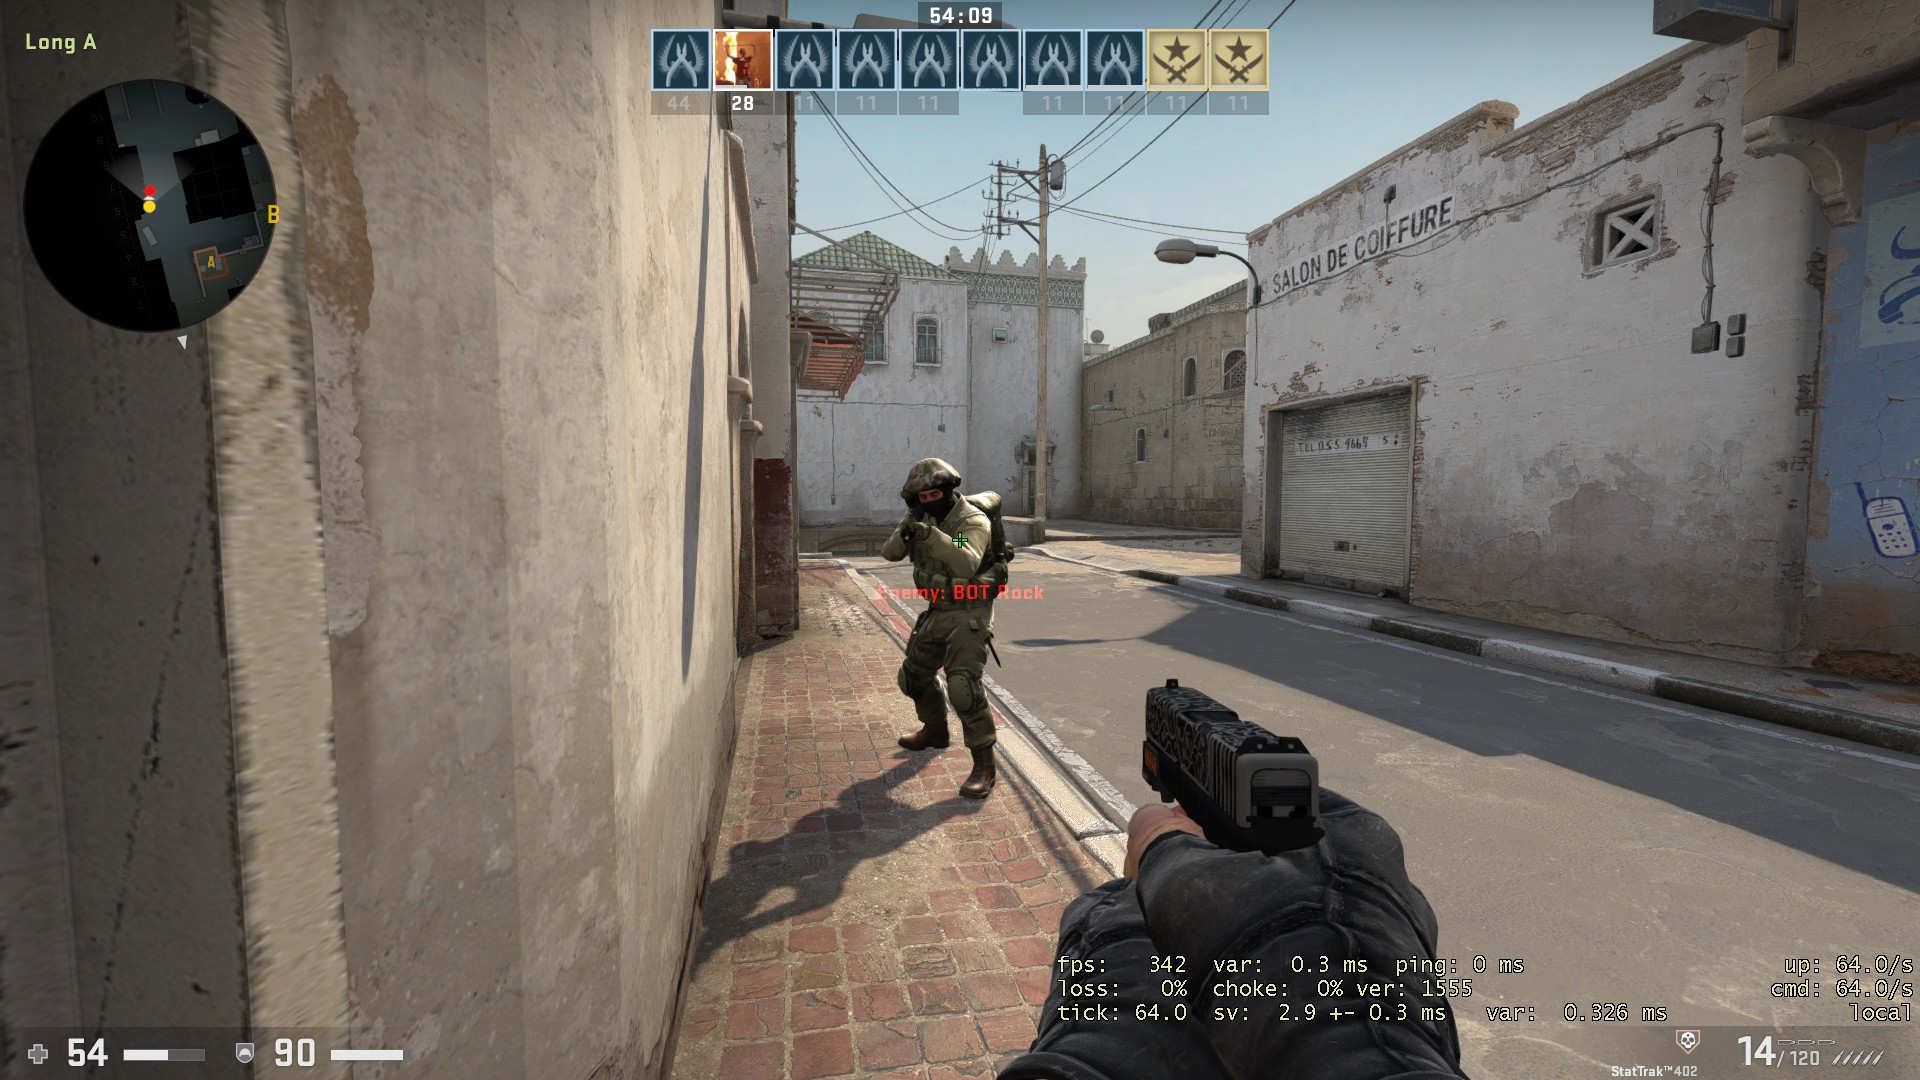ct: (875, 450, 1015, 802)
player: (876, 453, 1020, 805)
